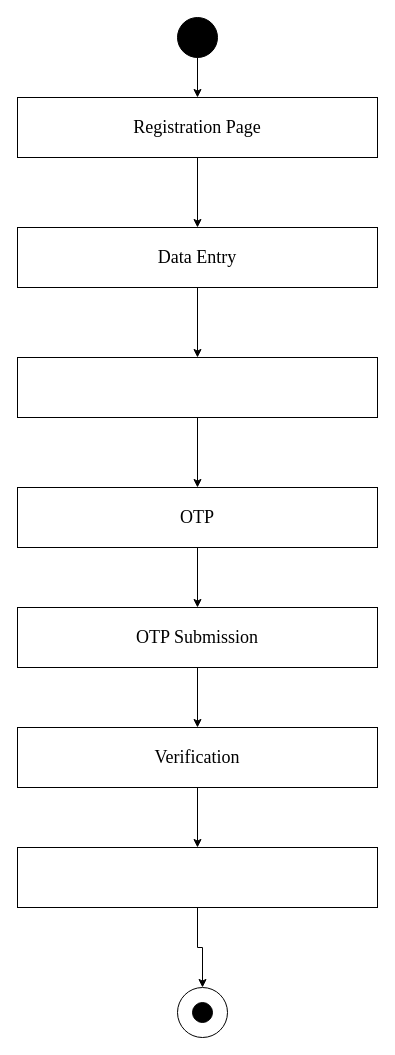
Some shapes in this 395 by 1055 pixel diagram are drawn without their labels. The shapes that lost their labels are listed below. From the top down, each one's centre as x and y in pixels, then its label:
At (197,387): "Submission".
At (197,877): "Dashboard".
